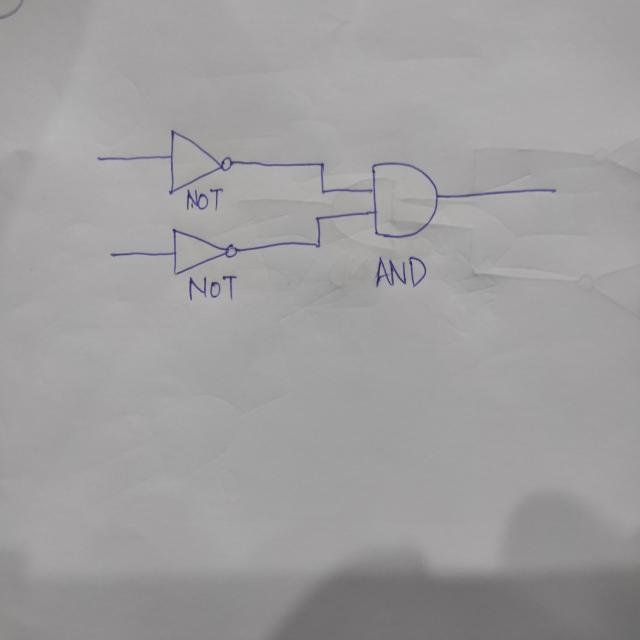junction: (316, 157, 327, 171), (312, 238, 322, 250), (318, 186, 327, 198), (312, 214, 322, 224)
terminal: (106, 247, 120, 262), (92, 152, 106, 164), (548, 184, 558, 197)
text: (374, 253, 427, 289), (187, 272, 237, 303), (183, 186, 225, 213)
